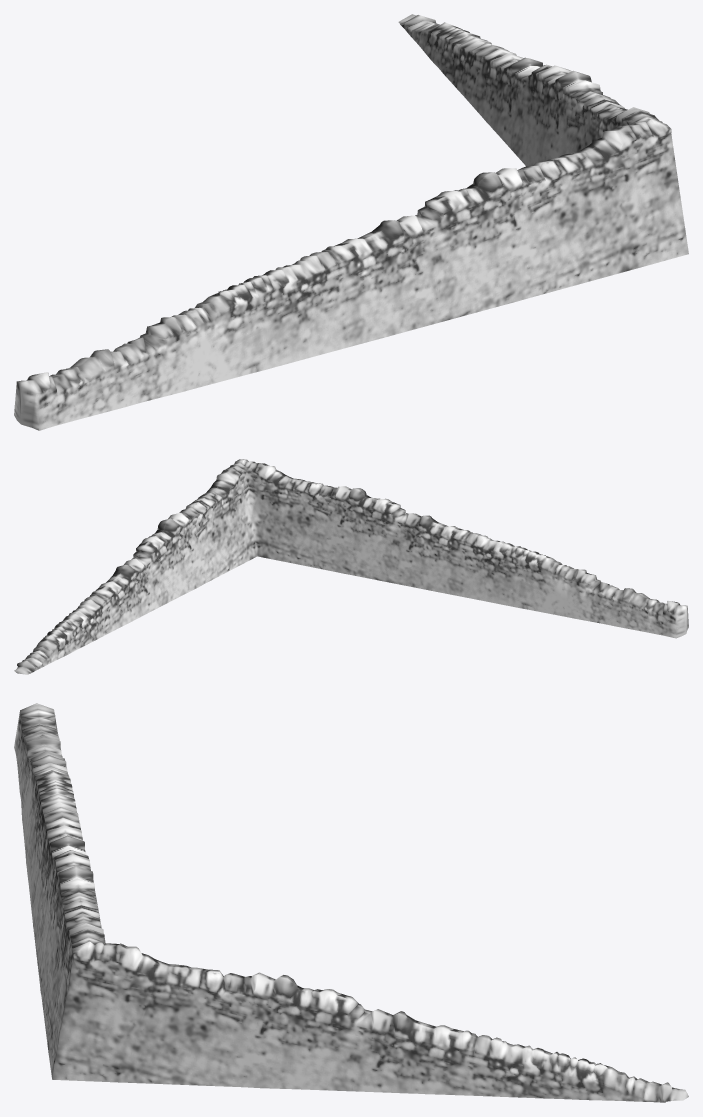
Rendered from Ruins_BigWall002.fbx.
The picture shows the model from 3 angles, top to bottom: view 1: azimuth 30°, elevation 25°; view 2: azimuth 150°, elevation 25°; view 3: azimuth 270°, elevation 25°; orthographic projection. The views are drawn at different scales.
Parts seen in each view (by area): view 1: Ruins_BigWall002; view 2: Ruins_BigWall002; view 3: Ruins_BigWall002.
Part boxes in pixels (left/top/right/bottom): Ruins_BigWall002: left=14, top=14, right=688, bottom=430; Ruins_BigWall002: left=14, top=459, right=688, bottom=674; Ruins_BigWall002: left=14, top=703, right=688, bottom=1102.
Size of the model in its own units: 1764 by 296 by 1401.
